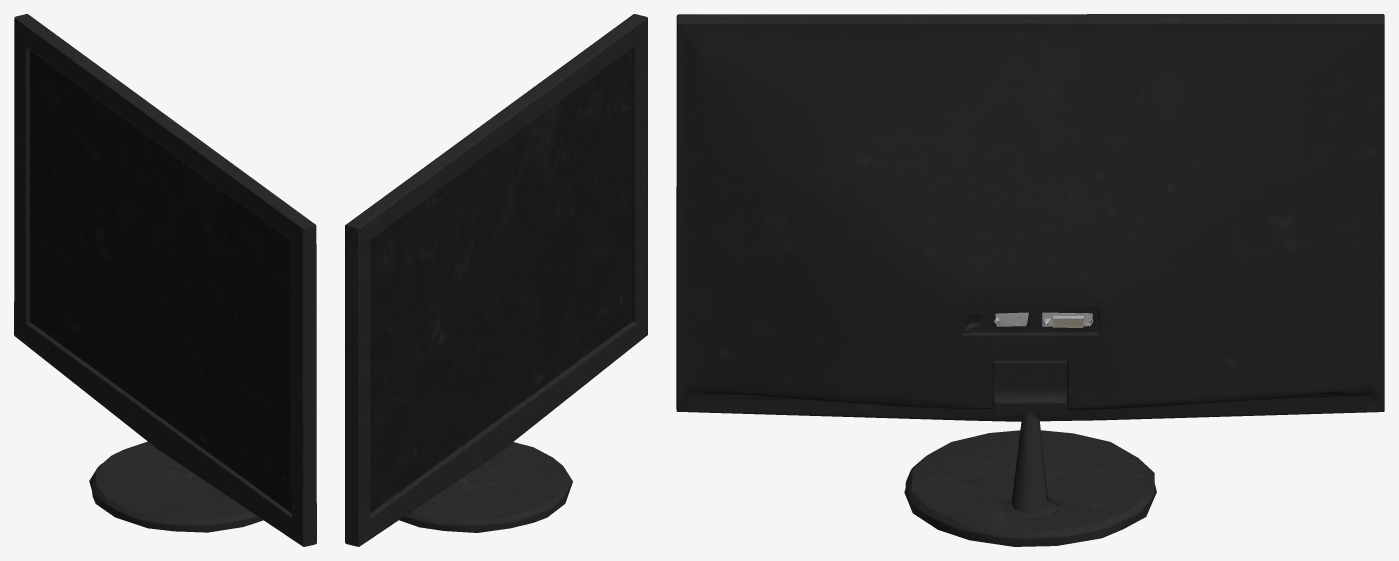
The model's file is SM_Set_Monitor02.fbx.
The picture shows the model from 3 angles, left to right: view 1: azimuth 30°, elevation 25°; view 2: azimuth 150°, elevation 25°; view 3: azimuth 270°, elevation 25°; orthographic projection. The views are drawn at different scales.
Visible parts, largest first — view 1: SM_Set_Monitor02_LOD0; view 2: SM_Set_Monitor02_LOD0; view 3: SM_Set_Monitor02_LOD0.
Part boxes in pixels (x1=…): SM_Set_Monitor02_LOD0: x1=14, y1=14, x2=316, y2=546; SM_Set_Monitor02_LOD0: x1=345, y1=14, x2=647, y2=546; SM_Set_Monitor02_LOD0: x1=676, y1=14, x2=1384, y2=546.
Bounding box in the file's own units: 20.5 × 57.62 × 41.24.
